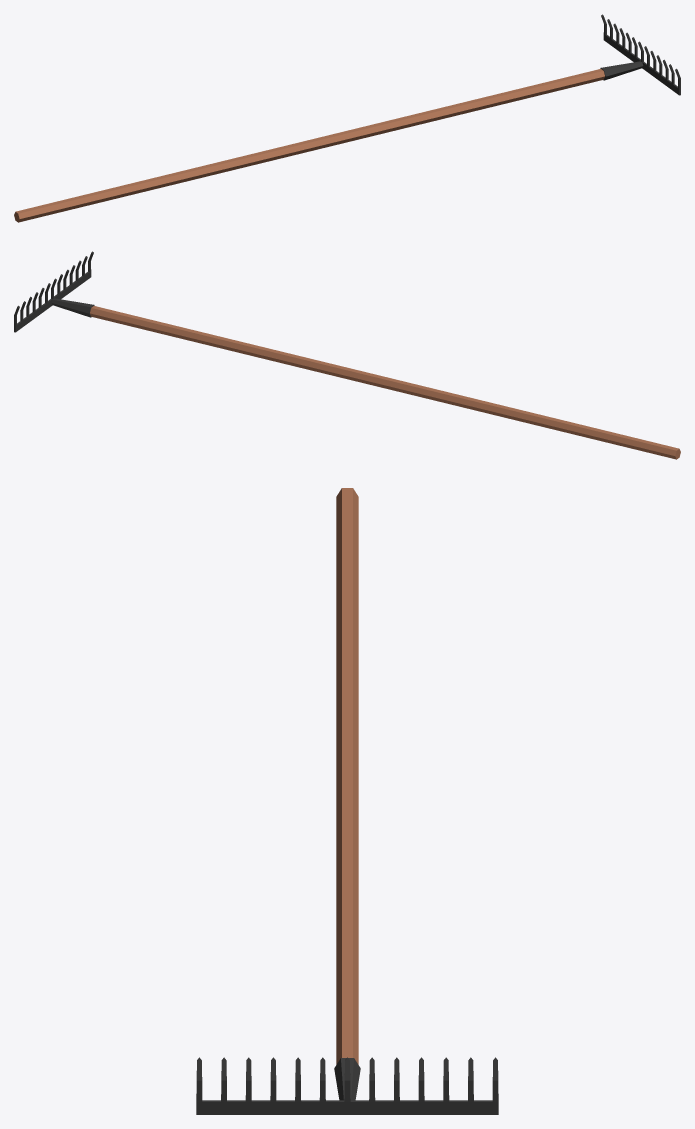
The model's file is Hand Rake.glb.
The picture shows the model from 3 angles, top to bottom: view 1: azimuth 30°, elevation 25°; view 2: azimuth 150°, elevation 25°; view 3: azimuth 270°, elevation 25°; orthographic projection. The views are drawn at different scales.
Visible parts, largest first — view 1: Hand_rake; view 2: Hand_rake; view 3: Hand_rake.
Part boxes in pixels (left/top/right/bottom): Hand_rake: left=14, top=14, right=680, bottom=222; Hand_rake: left=14, top=251, right=680, bottom=459; Hand_rake: left=196, top=488, right=498, bottom=1114.
Bounding box in the file's own units: 4.27 × 0.1883 × 0.8912.
Materials: 1 (1 with a texture image).
